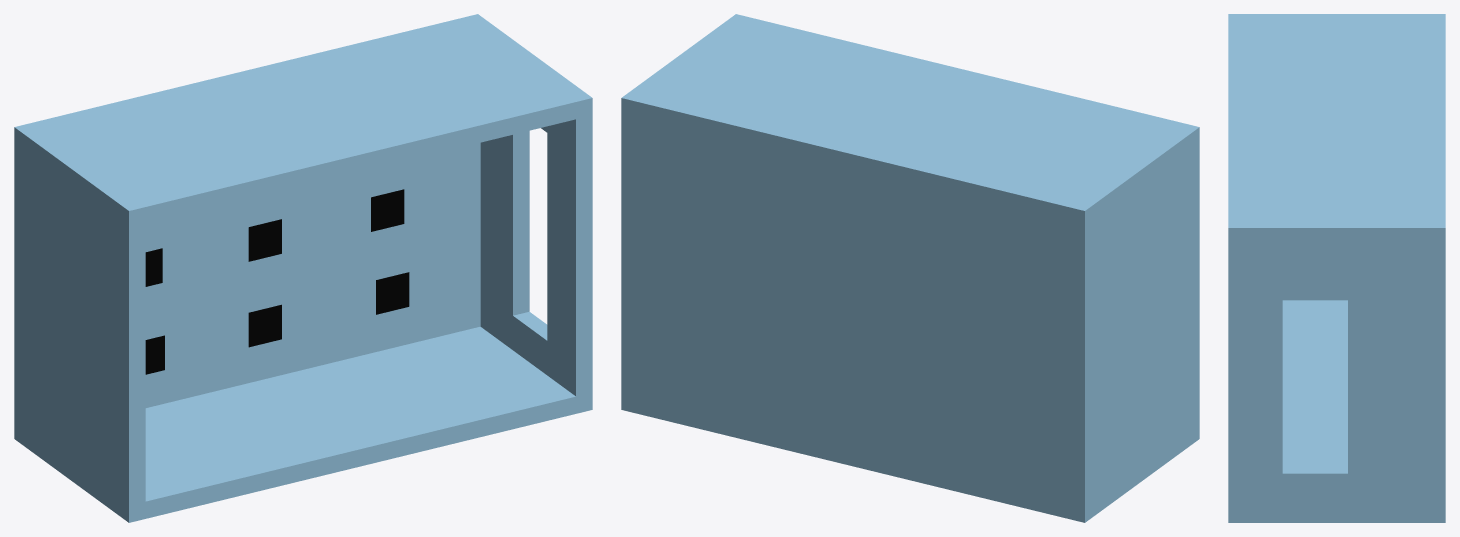
The model's file is pool_wa.obj.
3 renders of one model, left to right at view 1: azimuth 30°, elevation 25°; view 2: azimuth 150°, elevation 25°; view 3: azimuth 270°, elevation 25°, orthographic. The views are drawn at different scales.
Visible parts, largest first — view 1: mesh14, mesh10, mesh2, mesh11, mesh9, mesh3, mesh6, mesh49, mesh54, mesh29, mesh39, mesh44; view 2: mesh13, mesh10, mesh11; view 3: mesh8, mesh10, mesh2, mesh1, mesh4.
Part boxes in pixels (x1,y1,x2,y2): mesh14: (145,142,480,407); mesh10: (14,14,591,210); mesh2: (145,326,575,501); mesh11: (14,127,128,522); mesh9: (129,98,592,522); mesh3: (480,119,575,395); mesh6: (513,130,529,315); mesh49: (376,272,409,314); mesh54: (371,189,404,231); mesh29: (248,304,281,347); mesh39: (248,219,281,261); mesh44: (145,335,164,374); mesh13: (621,98,1084,522); mesh10: (622,14,1199,210); mesh11: (1085,127,1199,522); mesh8: (1228,228,1445,522); mesh10: (1228,14,1445,227); mesh2: (1282,300,1347,466); mesh1: (1282,277,1347,300); mesh4: (1282,466,1347,473).
Size of the model in its own units: 14 by 9 by 6.
